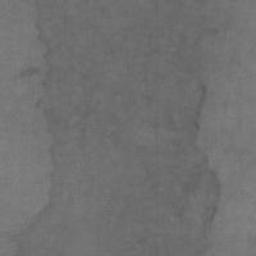Water spot: (0, 0, 237, 256), (19, 65, 40, 77)
